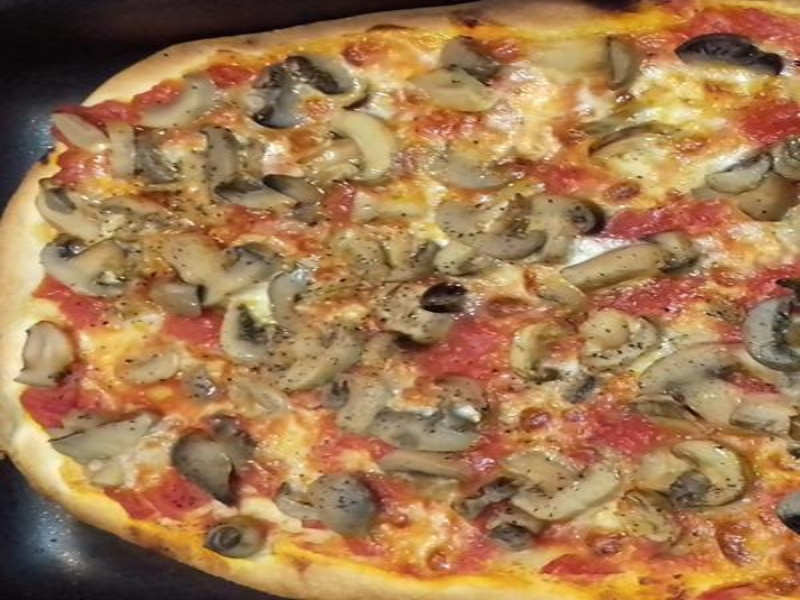champignon: (35, 232, 132, 308)
